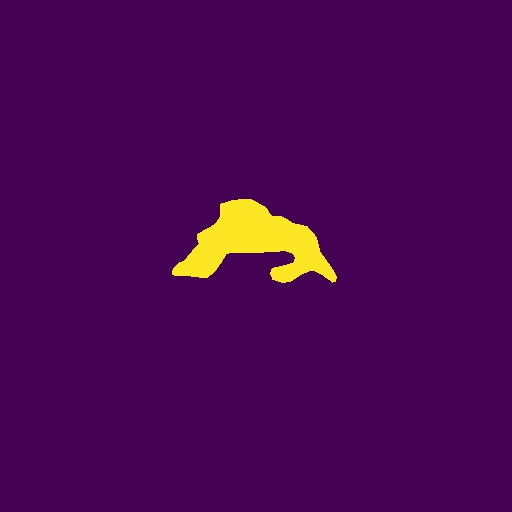Gliomia_tumour: (172, 199, 337, 283)
